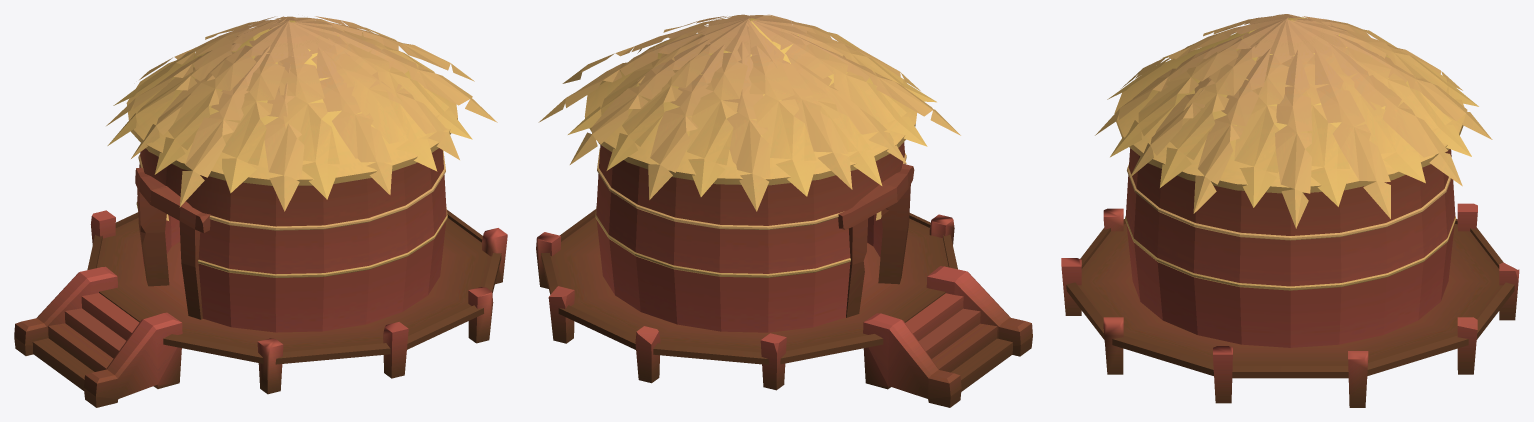
The picture shows the model from 3 angles, left to right: view 1: azimuth 30°, elevation 25°; view 2: azimuth 150°, elevation 25°; view 3: azimuth 270°, elevation 25°; orthographic projection. The views are drawn at different scales.
Parts seen in each view (by area): view 1: House1; view 2: House1; view 3: House1.
Part boxes in pixels (left/top/right/bottom): House1: left=14, top=16, right=507, bottom=407; House1: left=536, top=14, right=1032, bottom=407; House1: left=1061, top=14, right=1519, bottom=407.
Bounding box in the file's own units: 11.84 × 8.04 × 10.49.
Materials: 1 (1 with a texture image).
